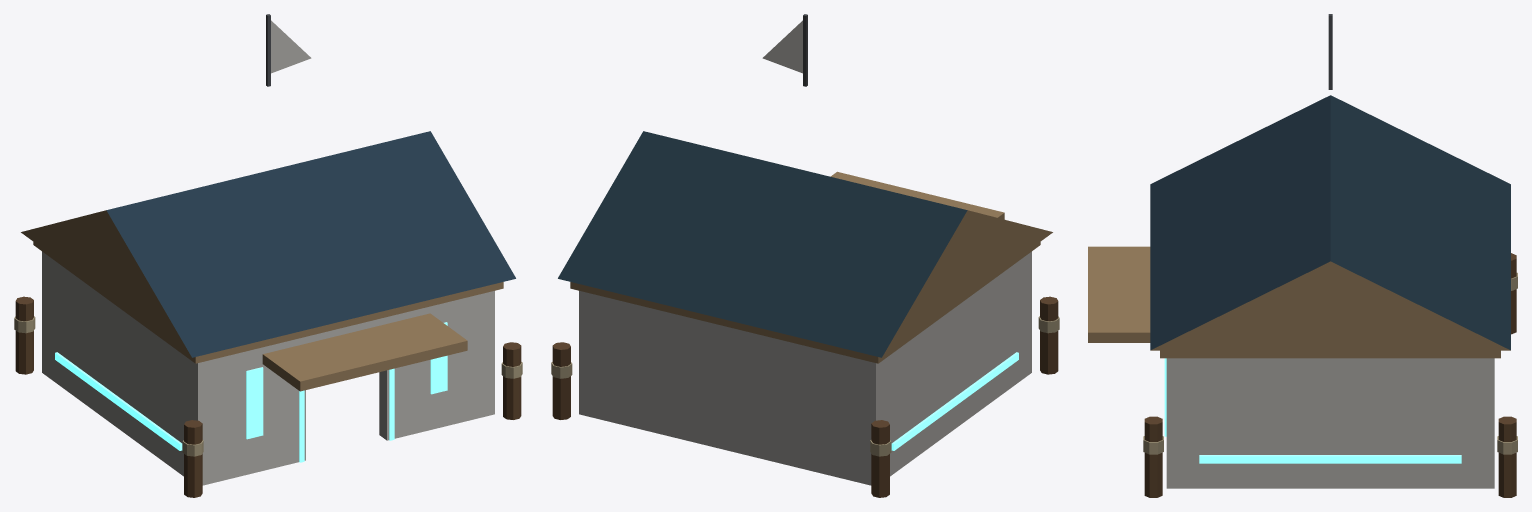
The model's file is shaddai_dist_ocean_home_a_v01.glb.
3 renders of one model, left to right at view 1: azimuth 30°, elevation 25°; view 2: azimuth 150°, elevation 25°; view 3: azimuth 270°, elevation 25°, orthographic. The views are drawn at different scales.
Visible parts, largest first — view 1: shaddai_dist_ocean_home_a; view 2: shaddai_dist_ocean_home_a; view 3: shaddai_dist_ocean_home_a.
Boxes of the visible parts, bbox=[...] form: shaddai_dist_ocean_home_a: bbox=[14, 14, 522, 497]; shaddai_dist_ocean_home_a: bbox=[551, 14, 1059, 497]; shaddai_dist_ocean_home_a: bbox=[1088, 14, 1517, 497].
Size of the model in its own units: 12.43 by 13.38 by 13.11.
